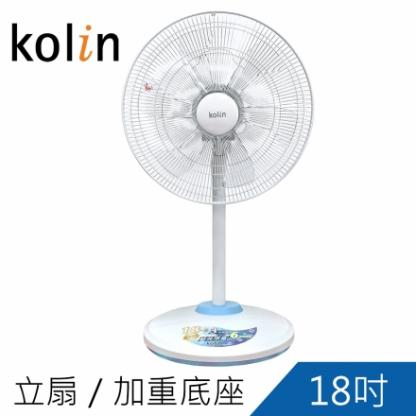fan: (122, 8, 316, 365)
